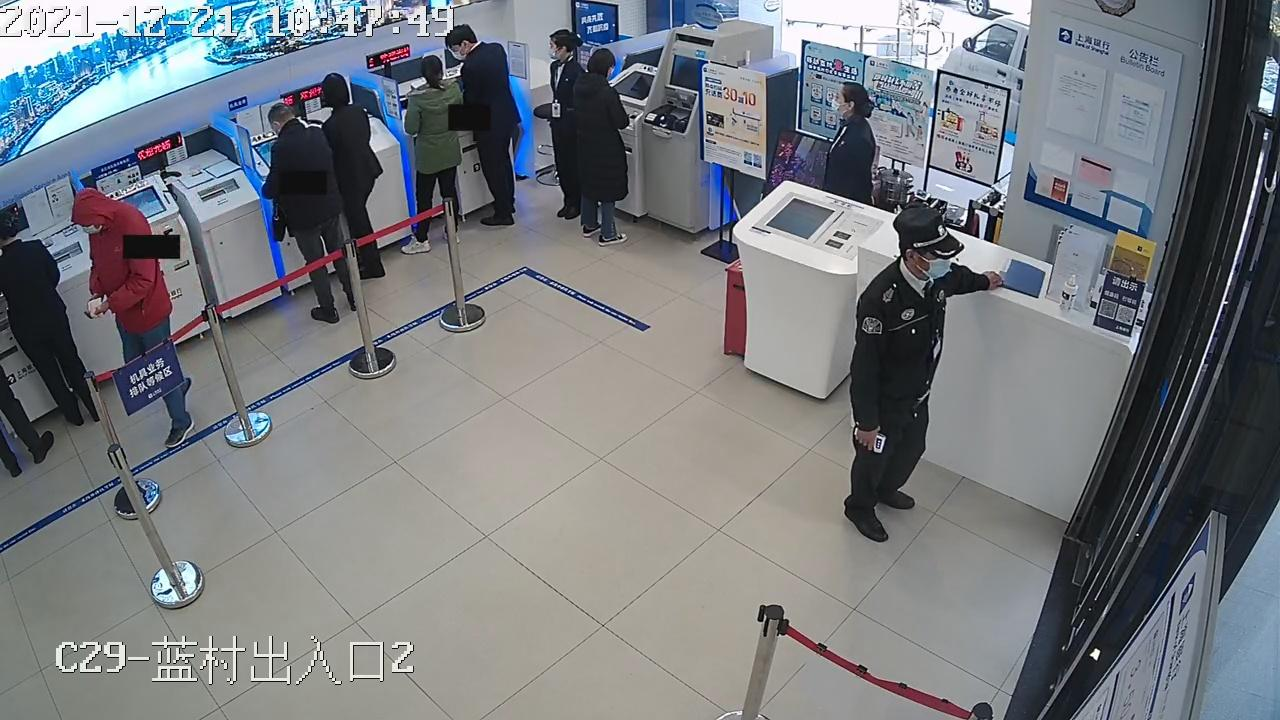person: (846, 205, 1004, 542), (69, 175, 198, 451), (0, 212, 102, 426), (263, 101, 358, 324), (446, 25, 522, 228), (317, 72, 386, 283), (572, 49, 635, 249), (403, 54, 463, 250), (544, 34, 594, 222), (544, 29, 588, 222), (2, 340, 55, 477), (823, 84, 877, 205)
